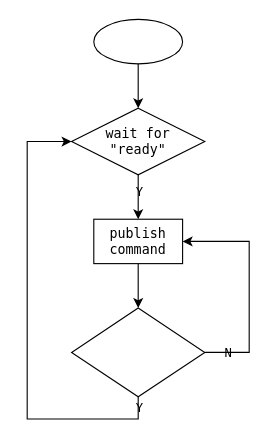
Some shapes in this 278 by 447 pixel diagram are drawn without their labels. Here are the shapes that lost their labels. From the top down, the centre of each, then its label:
(x=138, y=41): start
(x=137, y=352): wait for "terminate"
